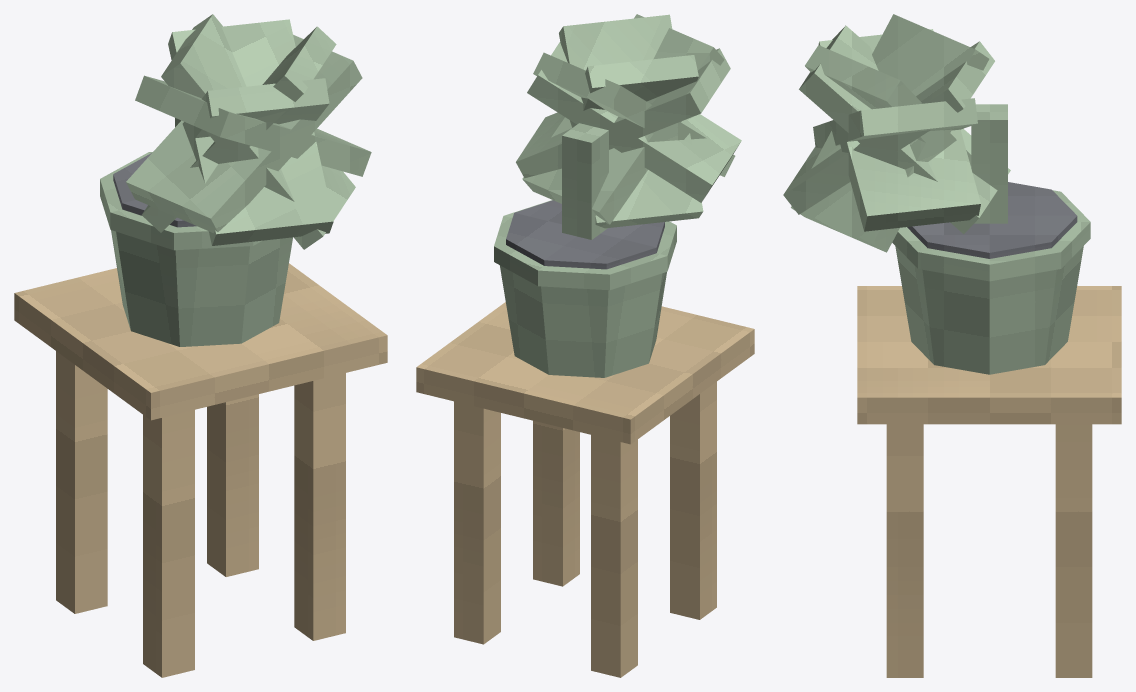
Rendered from pixel-modern-apartments-plant-on-stool-a26eafae__29858.glb.
3 views of the same model, side by side, from view 1: azimuth 30°, elevation 25°; view 2: azimuth 150°, elevation 25°; view 3: azimuth 270°, elevation 25° (orthographic). The views are drawn at different scales.
Visible parts, largest first — view 1: plant-on-stool; view 2: plant-on-stool; view 3: plant-on-stool.
Part boxes in pixels (x1,y1,x2,y2): plant-on-stool: (14, 14, 387, 677); plant-on-stool: (416, 14, 754, 677); plant-on-stool: (783, 14, 1121, 677).
Bounding box in the file's own units: 0.36 × 0.8825 × 0.4611.
3 materials, 3 textured.
